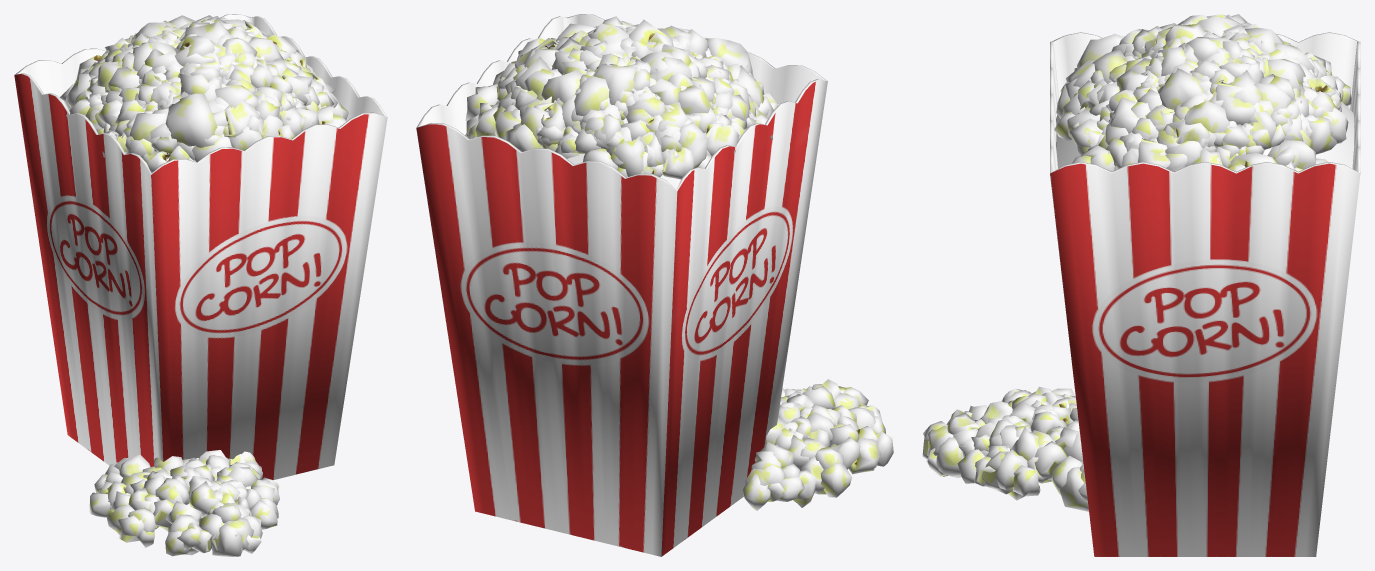
File: popcorn_bucket.glb
3 views of the same model, side by side, from view 1: azimuth 30°, elevation 25°; view 2: azimuth 150°, elevation 25°; view 3: azimuth 270°, elevation 25° (orthographic). The views are drawn at different scales.
Visible parts, largest first — view 1: popcorn-box.000, popcorn1-lp.001, popcorn3-lp.003; view 2: popcorn-box.000, popcorn1-lp.001, popcorn3-lp.003; view 3: popcorn-box.000, popcorn1-lp.001, popcorn3-lp.003, Plane.001.
Part boxes in pixels (bbox=[...]): popcorn-box.000: bbox=[14, 14, 387, 479]; popcorn1-lp.001: bbox=[59, 15, 348, 173]; popcorn3-lp.003: bbox=[89, 450, 279, 556]; popcorn-box.000: bbox=[416, 14, 827, 556]; popcorn1-lp.001: bbox=[465, 16, 781, 179]; popcorn3-lp.003: bbox=[742, 379, 893, 510]; popcorn-box.000: bbox=[1050, 32, 1360, 556]; popcorn1-lp.001: bbox=[1054, 14, 1351, 171]; popcorn3-lp.003: bbox=[922, 386, 1088, 511]; Plane.001: bbox=[1056, 101, 1354, 168].
Bounding box in the file's own units: 0.2156 × 0.3152 × 0.2562.
Materials: 5 (4 with a texture image).
